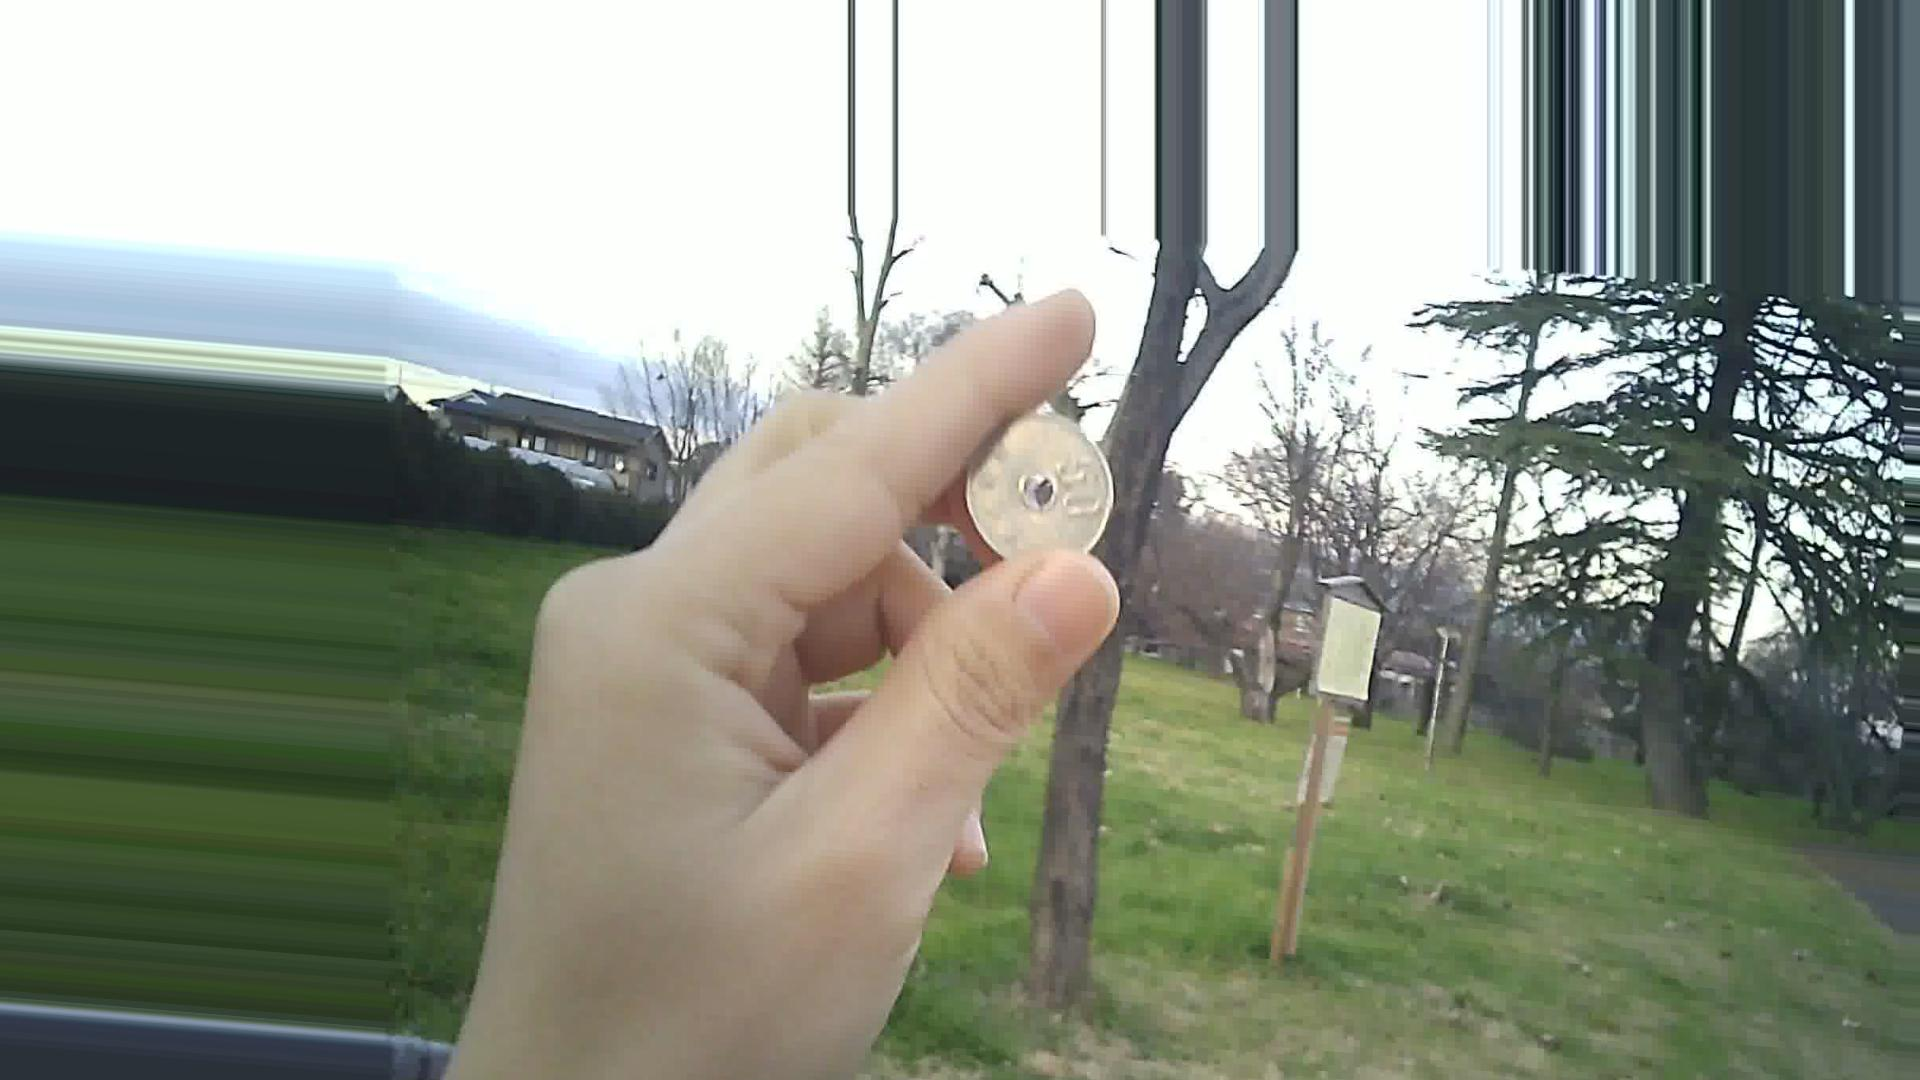50 Yen: (961, 411, 1124, 564)
